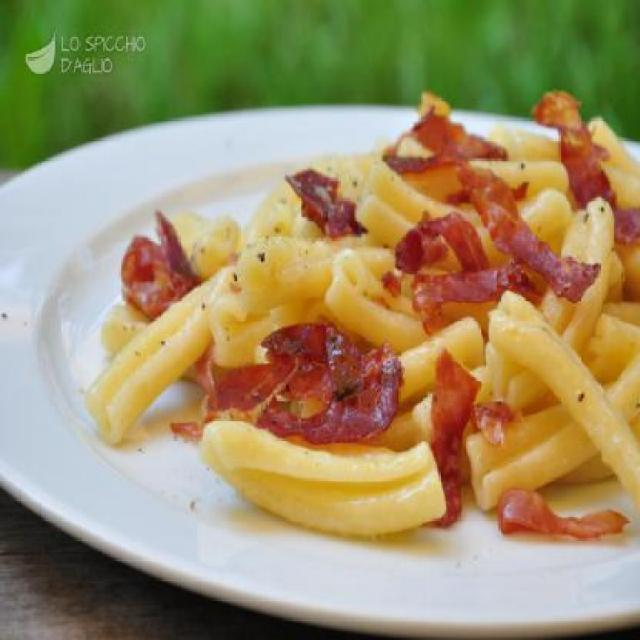Oil pasta: (128, 117, 630, 566)
